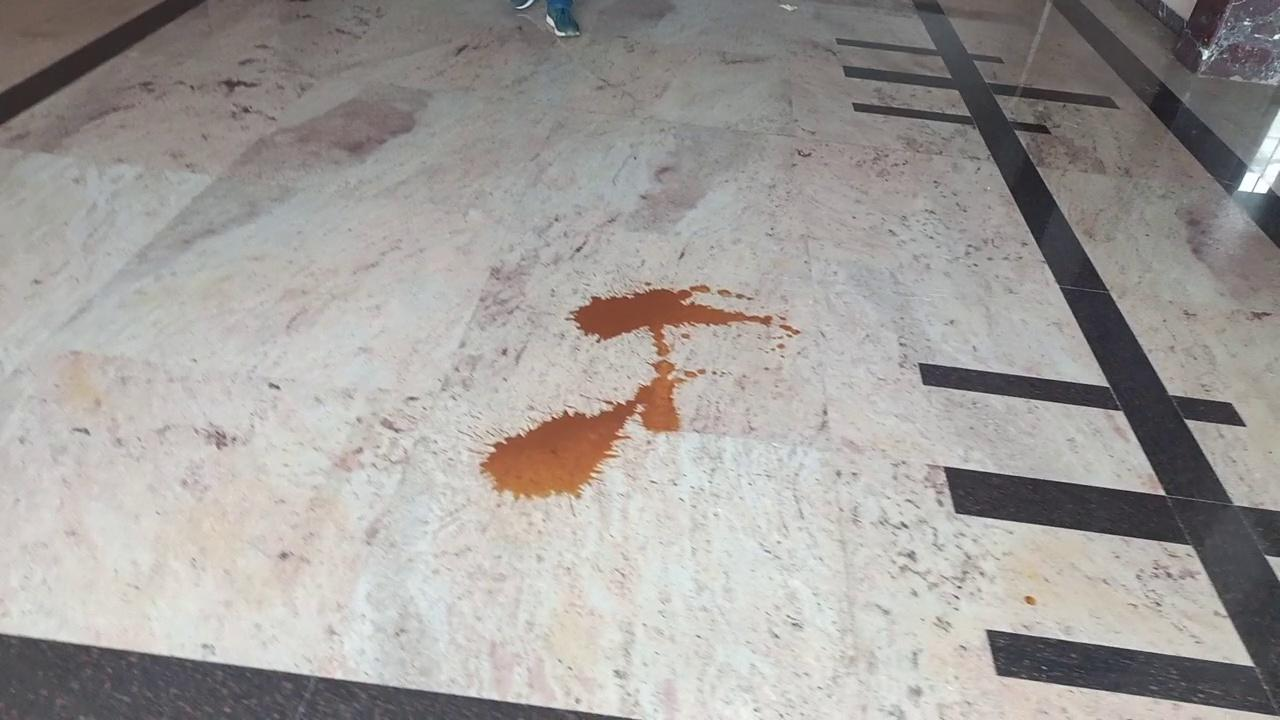dirty_floor: (483, 288, 792, 511)
